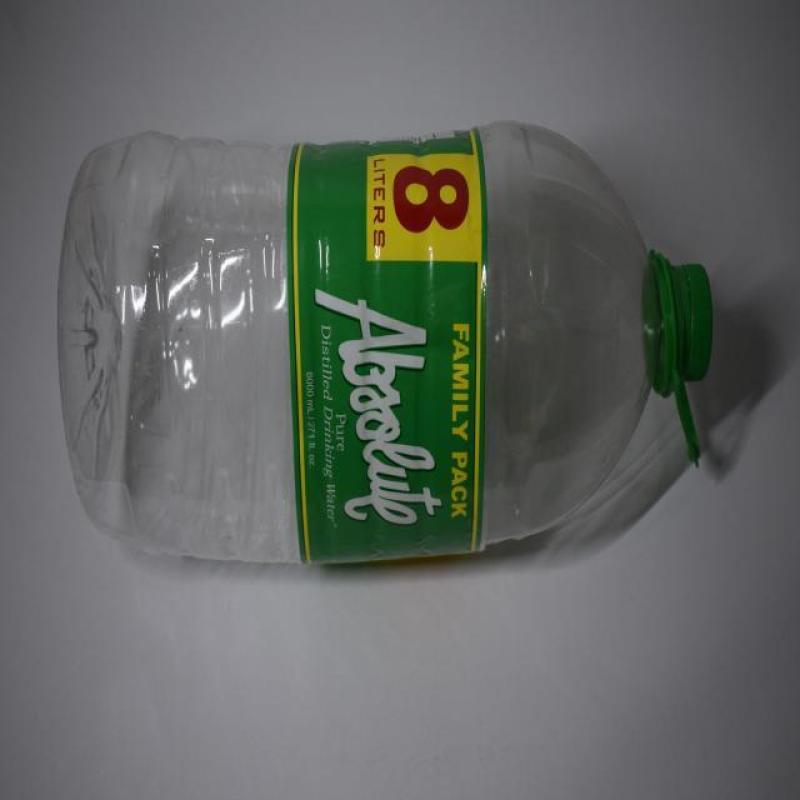botella: (60, 118, 712, 557)
